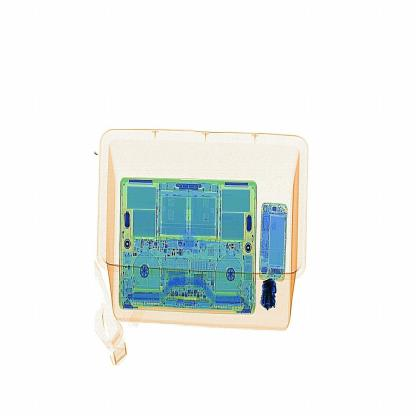scissors: (257, 271, 291, 312)
